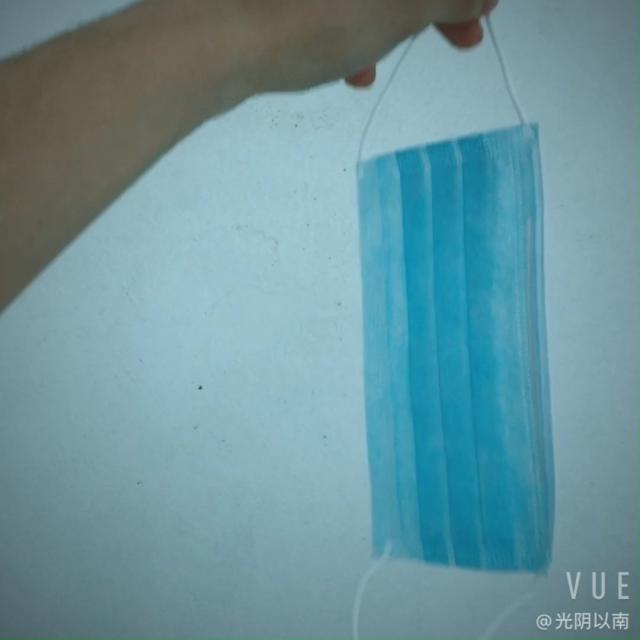face mask: (329, 116, 548, 572)
